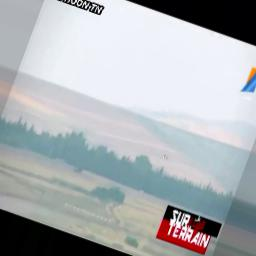Airplane: (159, 153, 168, 161)
